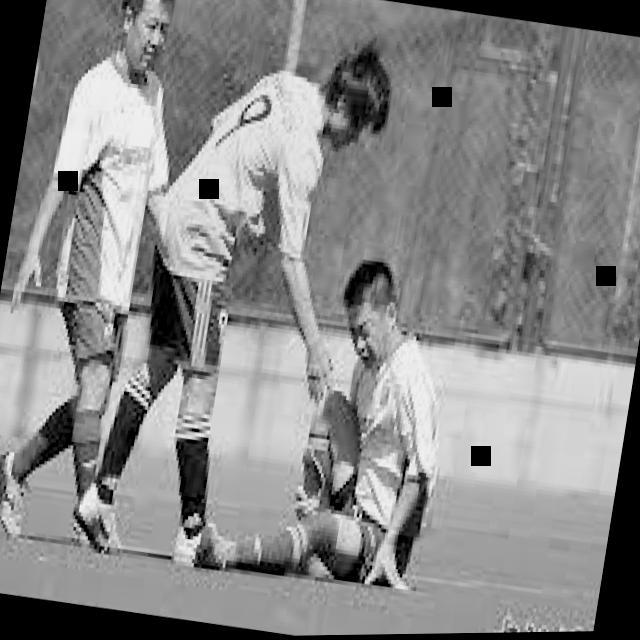Fall-Detected: (172, 207, 498, 619)
